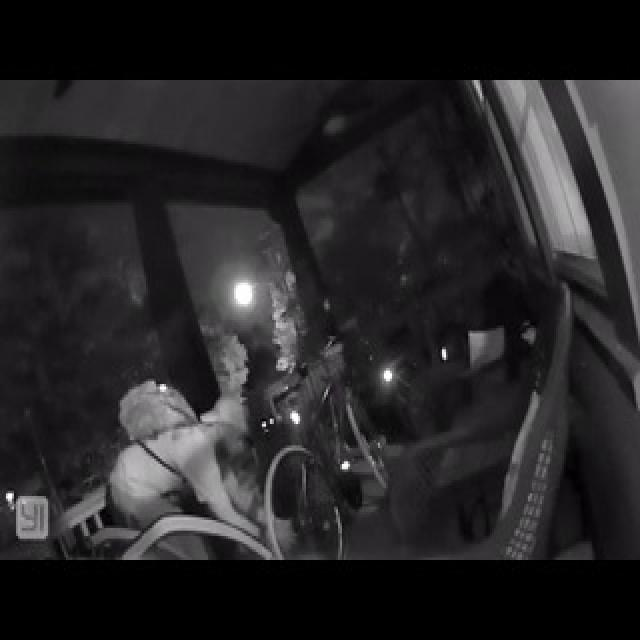thief: (107, 398, 315, 545)
